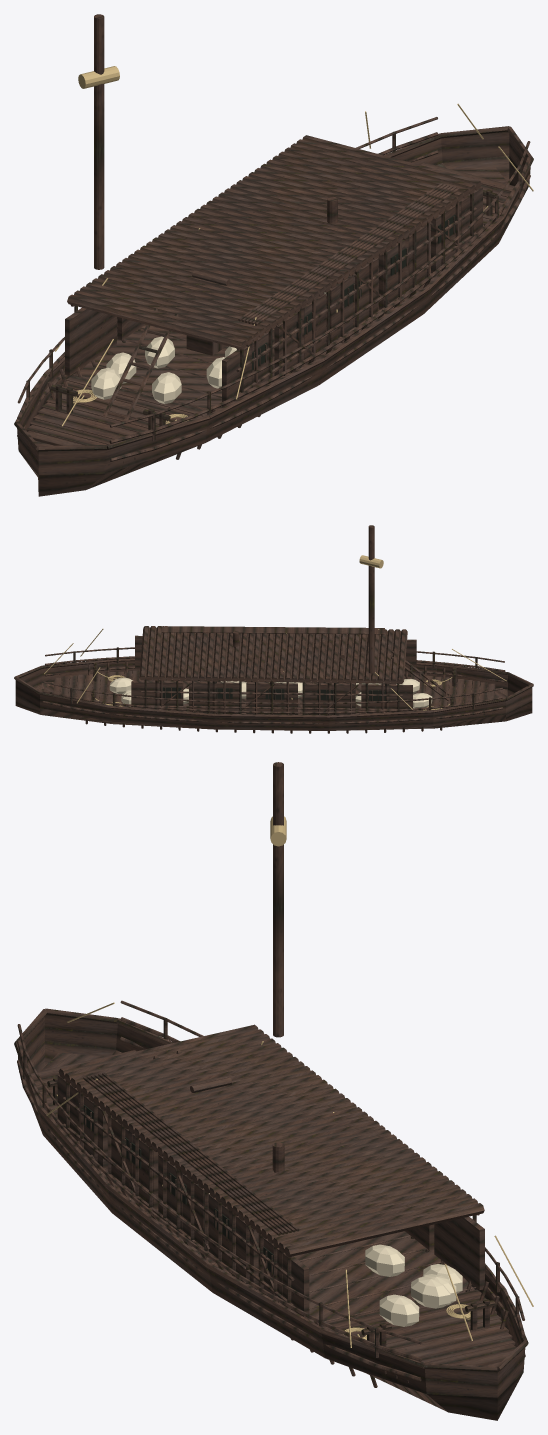
File: ship-hq.glb
3 renders of one model, top to bottom at view 1: azimuth 30°, elevation 25°; view 2: azimuth 150°, elevation 25°; view 3: azimuth 270°, elevation 25°, orthographic. The views are drawn at different scales.
Parts seen in each view (by area): view 1: hq_ship_QMV3_cargo_landmark_wood, hq_ship_QMV3_cargo_landmark_wood_dark, hq_ship_QMV4_barge_detail_wood_light.001, hq_ship_QMV4_barge_detail_wood.001, hq_ship_QMV4_barge_detail_wood_dark.001, hq_ship_QMV3_cargo_landmark_wood_light, hq_ship_QMV3_cargo_landmark_cloth, mast_hq_timber, hq_ship_QMV4_barge_detail_cloth.001, hq_ship_QMV4_barge_detail_hair.001, mast_hq_furled_sail; view 2: hq_ship_QMV3_cargo_landmark_wood, hq_ship_QMV3_cargo_landmark_wood_dark, hq_ship_QMV4_barge_detail_wood.001, hq_ship_QMV4_barge_detail_wood_light.001, hq_ship_QMV3_cargo_landmark_wood_light, hq_ship_QMV4_barge_detail_wood_dark.001, hq_ship_QMV3_cargo_landmark_cloth, mast_hq_timber, hq_ship_QMV4_barge_detail_hair.001, hq_ship_QMV4_barge_detail_cloth.001; view 3: hq_ship_QMV3_cargo_landmark_wood, hq_ship_QMV3_cargo_landmark_wood_dark, hq_ship_QMV4_barge_detail_wood_light.001, hq_ship_QMV4_barge_detail_wood.001, hq_ship_QMV3_cargo_landmark_wood_light, hq_ship_QMV4_barge_detail_wood_dark.001, hq_ship_QMV3_cargo_landmark_cloth, mast_hq_timber, hq_ship_QMV4_barge_detail_cloth.001, hq_ship_QMV4_barge_detail_hair.001.
Boxes of the visible parts, x1,y1,x2,y2 form: hq_ship_QMV3_cargo_landmark_wood: (35,135,507,445); hq_ship_QMV3_cargo_landmark_wood_dark: (17,131,530,496); hq_ship_QMV4_barge_detail_wood_light.001: (26,162,514,463); hq_ship_QMV4_barge_detail_wood.001: (17,117,530,461); hq_ship_QMV4_barge_detail_wood_dark.001: (26,132,521,441); hq_ship_QMV3_cargo_landmark_wood_light: (14,126,533,459); hq_ship_QMV3_cargo_landmark_cloth: (91,292,326,403); mast_hq_timber: (94,14,104,269); hq_ship_QMV4_barge_detail_cloth.001: (55,103,533,426); hq_ship_QMV4_barge_detail_hair.001: (252,214,455,370); mast_hq_furled_sail: (78,66,119,88); hq_ship_QMV3_cargo_landmark_wood: (39,626,507,715); hq_ship_QMV3_cargo_landmark_wood_dark: (15,661,532,730); hq_ship_QMV4_barge_detail_wood.001: (42,647,505,724); hq_ship_QMV4_barge_detail_wood_light.001: (52,626,495,716); hq_ship_QMV3_cargo_landmark_wood_light: (14,658,533,733); hq_ship_QMV4_barge_detail_wood_dark.001: (70,645,477,715); hq_ship_QMV3_cargo_landmark_cloth: (109,677,432,708); mast_hq_timber: (368,525,374,673); hq_ship_QMV4_barge_detail_hair.001: (162,687,385,700); hq_ship_QMV4_barge_detail_cloth.001: (44,628,506,710); hq_ship_QMV3_cargo_landmark_wood: (41,1024,500,1365); hq_ship_QMV3_cargo_landmark_wood_dark: (18,1014,525,1420); hq_ship_QMV4_barge_detail_wood_light.001: (30,1050,516,1382); hq_ship_QMV4_barge_detail_wood.001: (17,1000,525,1381); hq_ship_QMV3_cargo_landmark_wood_light: (14,1008,528,1387); hq_ship_QMV4_barge_detail_wood_dark.001: (23,1018,519,1357); hq_ship_QMV3_cargo_landmark_cloth: (209,1193,462,1326); mast_hq_timber: (273,762,283,1037); hq_ship_QMV4_barge_detail_cloth.001: (46,1002,533,1347); hq_ship_QMV4_barge_detail_hair.001: (83,1104,273,1273).
Size of the model in its own units: 20 by 10.27 by 12.19.
9 materials, 6 textured.
